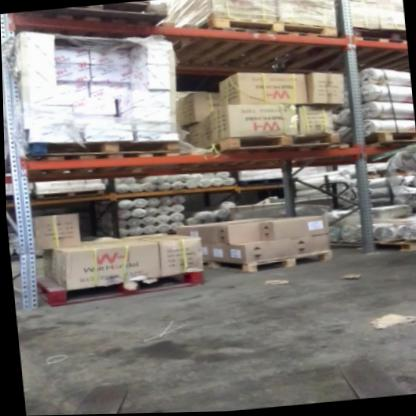vertical_damage: (12, 245, 47, 278)
